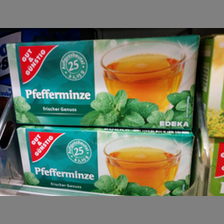tea: (6, 35, 202, 130), (16, 123, 194, 194)
